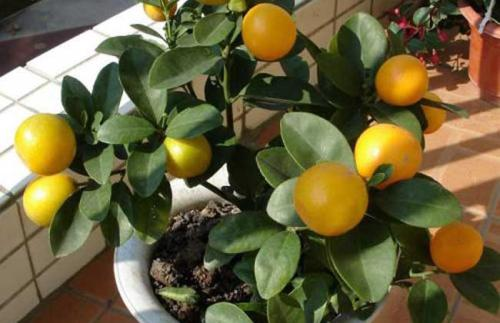orange: (293, 162, 368, 237), (353, 124, 423, 188), (13, 114, 78, 172), (242, 3, 297, 61), (22, 173, 77, 226), (157, 125, 214, 176), (375, 55, 428, 106), (430, 223, 484, 272), (416, 92, 449, 135), (142, 1, 177, 23)
